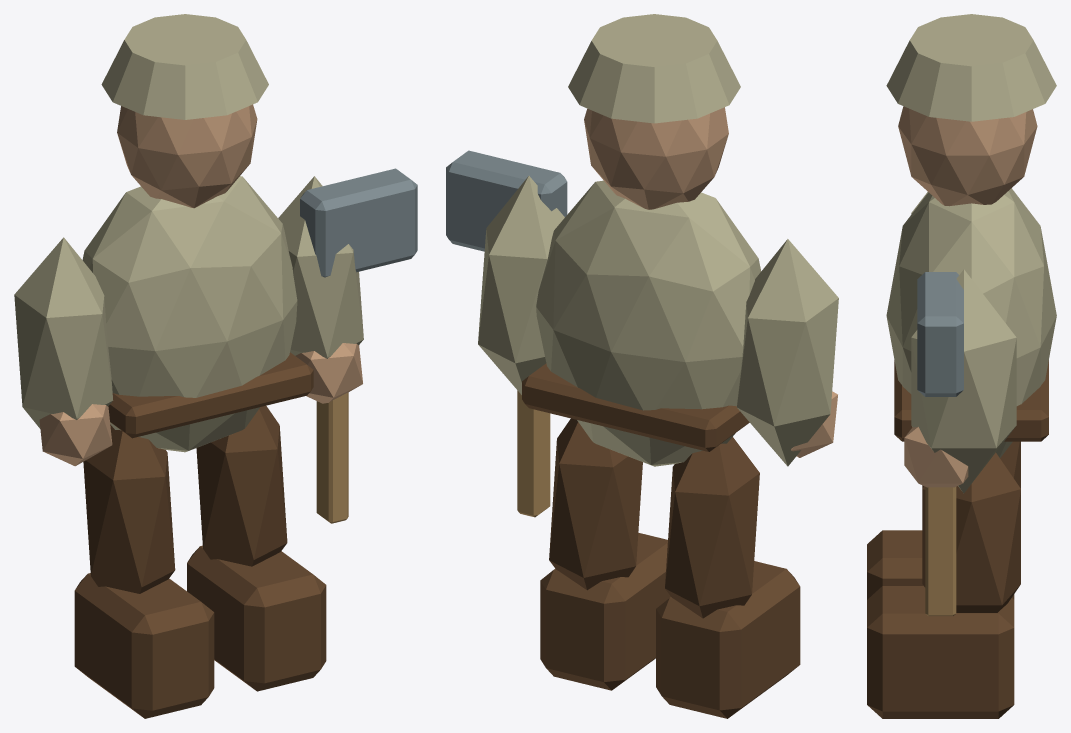
The model's file is worker.glb.
The picture shows the model from 3 angles, left to right: view 1: azimuth 30°, elevation 25°; view 2: azimuth 150°, elevation 25°; view 3: azimuth 270°, elevation 25°; orthographic projection. The views are drawn at different scales.
Visible parts, largest first — view 1: Torso.001, BootL.001, BootR.001, ArmL.001, Peasant cap, LegL.001, LegR.001, Head.001, Axe iron, ArmR.001, Belt.001, Axe handle (+2 smaller); view 2: Torso.001, ArmL.001, BootL.001, Peasant cap, LegL.001, BootR.001, LegR.001, ArmR.001, Head.001, Belt.001, Axe iron, Axe handle (+1 smaller); view 3: Torso.001, BootR.001, Peasant cap, ArmR.001, Head.001, LegR.001, Axe iron, Axe handle, BootL.001, Belt.001, HandR.001, LegL.001.
Boxes of the visible parts, <box> form: Torso.001: <box>82,176,297,452</box>; BootL.001: <box>74,573,214,718</box>; BootR.001: <box>187,545,326,691</box>; ArmL.001: <box>14,237,113,428</box>; Peasant cap: <box>101,14,268,119</box>; LegL.001: <box>83,424,175,593</box>; LegR.001: <box>196,405,287,566</box>; Head.001: <box>117,104,257,208</box>; Axe iron: <box>300,168,417,277</box>; ArmR.001: <box>278,176,363,358</box>; Belt.001: <box>108,352,313,438</box>; Axe handle: <box>316,392,348,523</box>; Torso.001: <box>536,180,761,466</box>; ArmL.001: <box>737,239,838,466</box>; BootL.001: <box>656,561,800,718</box>; Peasant cap: <box>568,14,740,123</box>; LegL.001: <box>665,437,759,618</box>; BootR.001: <box>540,532,670,690</box>; LegR.001: <box>549,418,642,590</box>; ArmR.001: <box>478,176,564,394</box>; Head.001: <box>584,107,728,209</box>; Belt.001: <box>522,363,749,451</box>; Axe iron: <box>446,150,567,251</box>; Axe handle: <box>517,390,550,517</box>; Torso.001: <box>886,188,1056,457</box>; BootR.001: <box>867,586,1014,718</box>; Peasant cap: <box>886,14,1056,121</box>; ArmR.001: <box>911,269,1016,493</box>; Head.001: <box>898,106,1037,206</box>; LegR.001: <box>922,452,1020,612</box>; Axe iron: <box>917,272,963,396</box>; Axe handle: <box>925,487,956,616</box>; BootL.001: <box>867,530,1014,599</box>; Belt.001: <box>894,360,1048,441</box>; HandR.001: <box>904,426,968,487</box>; LegL.001: <box>922,441,1020,488</box>.
Bounding box in the file's own units: 1.14 × 1.81 × 0.49.
